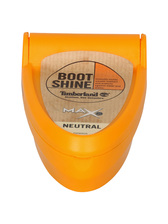other: (21, 33, 146, 191)
